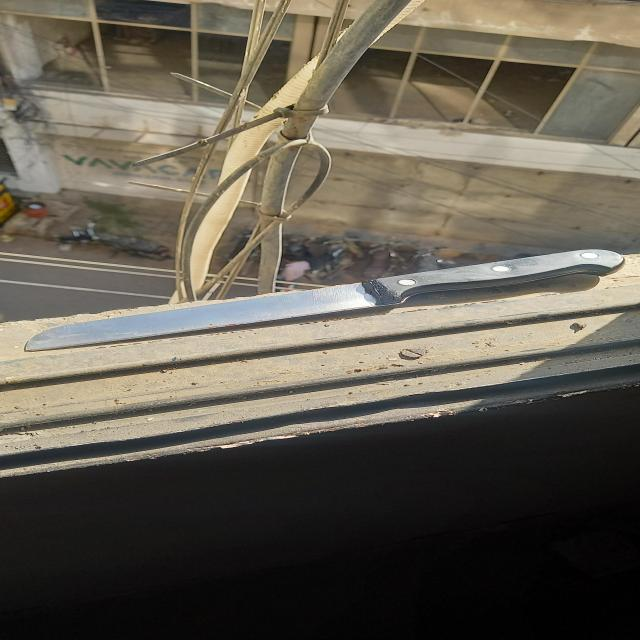weapon: (26, 249, 626, 351)
